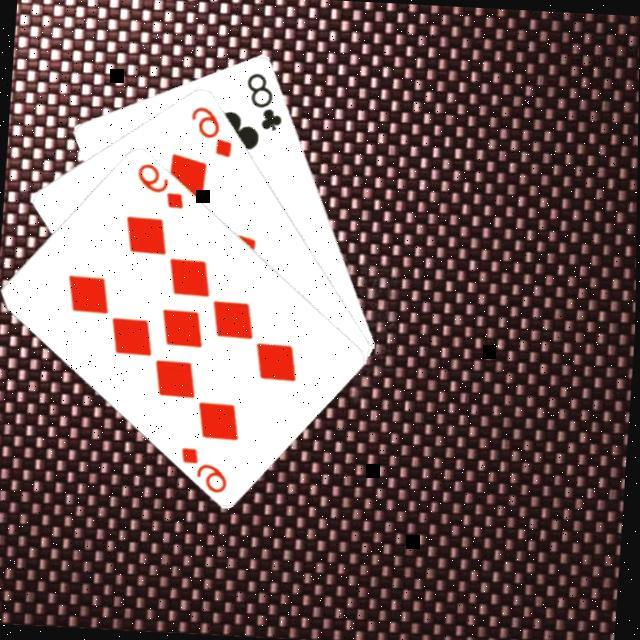6D: (184, 100, 238, 160)
8C: (239, 68, 287, 134)
9D: (173, 442, 233, 494), (130, 157, 188, 210)
